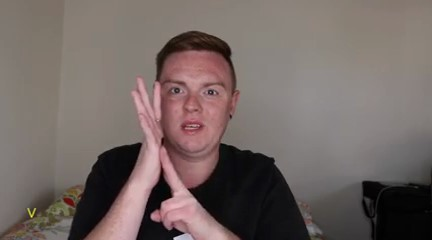V: (130, 71, 207, 240)
